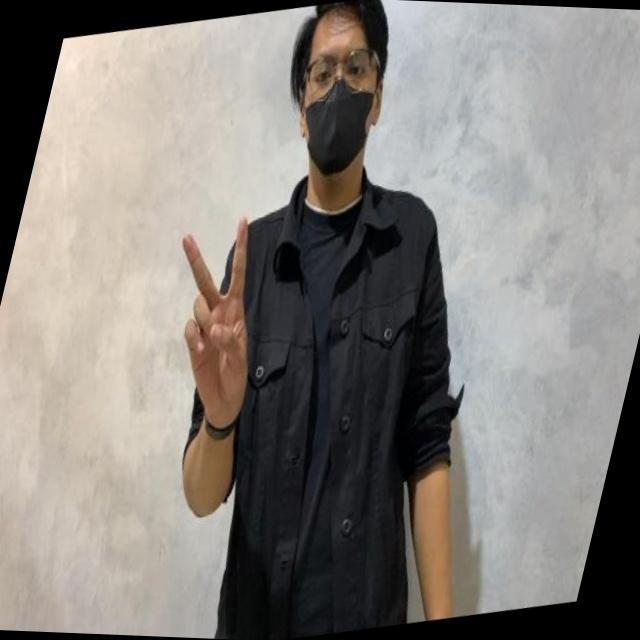V: (178, 213, 255, 405)
